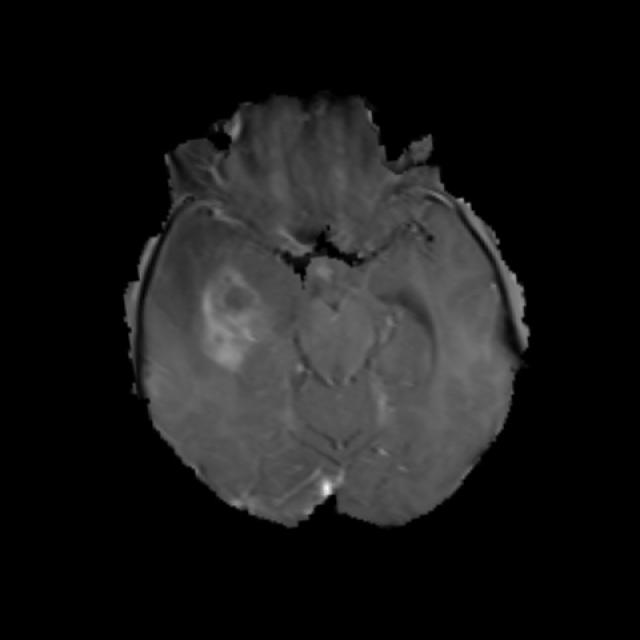negative: (199, 269, 264, 366)
